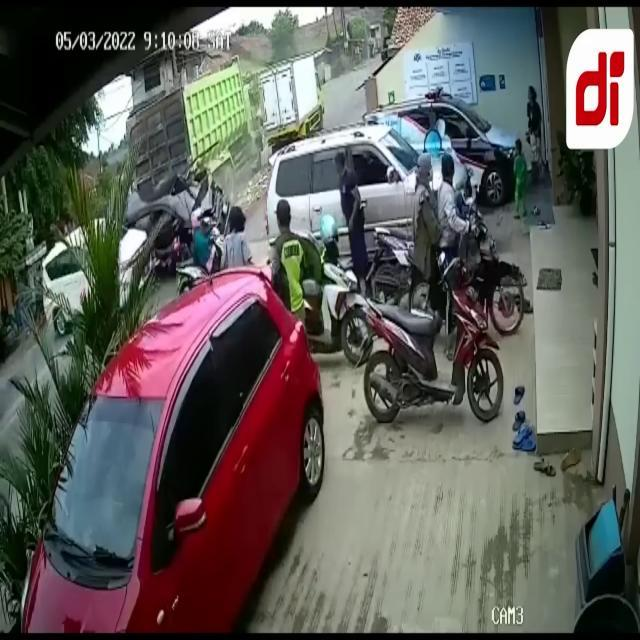multiple_accident: (20, 39, 567, 471)
